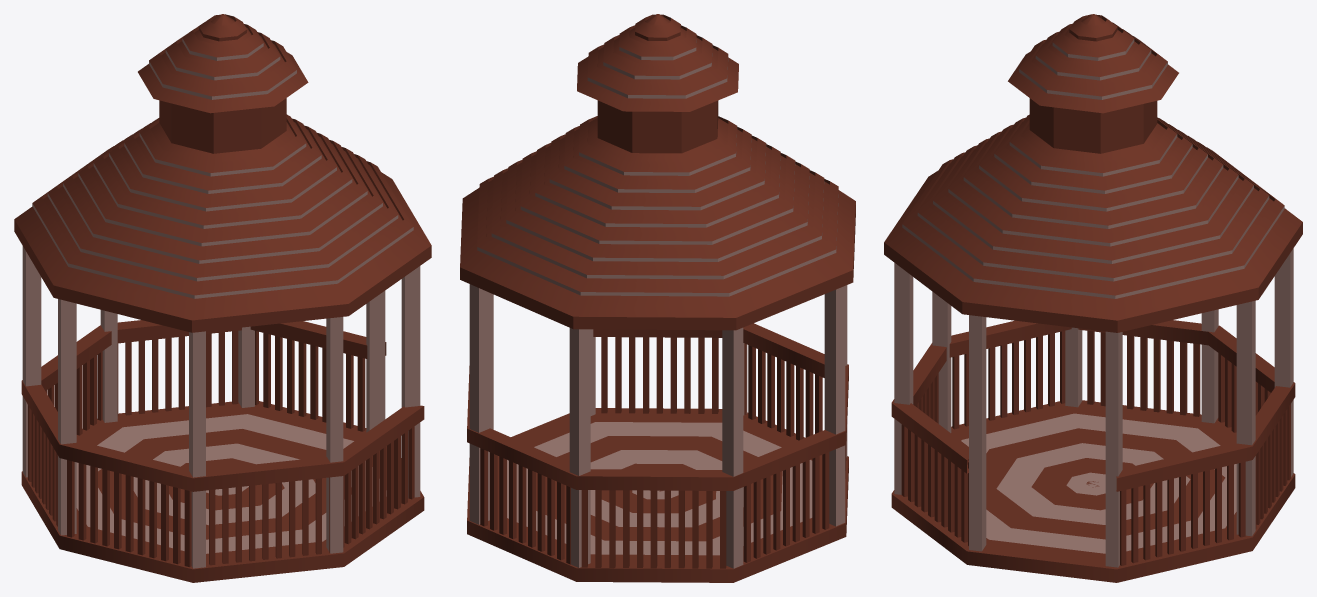
Rendered from Gazebo 1.obj.
3 renders of one model, left to right at view 1: azimuth 30°, elevation 25°; view 2: azimuth 150°, elevation 25°; view 3: azimuth 270°, elevation 25°, orthographic.
Visible parts, largest first — view 1: Cylinder005, Cylinder004, Cylinder006, Box087, Box086, Box092, Box089, Box093, Box088, Box090, Box091, Box118 (+22 smaller); view 2: Cylinder005, Cylinder004, Cylinder006, Box093, Box092, Box090, Box091, Box165, Box162, Box129, Box099, Box111 (+41 smaller); view 3: Cylinder005, Cylinder004, Cylinder006, Box089, Box088, Box091, Box087, Box090, Box086, Box093, Box092, Box159 (+16 smaller).
Part boxes in pixels (x1=…): Cylinder005: x1=14, y1=14, x2=431, y2=332; Cylinder004: x1=21, y1=401, x2=424, y2=582; Cylinder006: x1=21, y1=320, x2=424, y2=491; Box087: x1=326, y1=317, x2=343, y2=553; Box086: x1=189, y1=331, x2=205, y2=568; Box092: x1=58, y1=299, x2=76, y2=535; Box089: x1=401, y1=266, x2=420, y2=497; Box093: x1=22, y1=246, x2=41, y2=477; Box088: x1=366, y1=291, x2=385, y2=432; Box090: x1=100, y1=310, x2=117, y2=422; Box091: x1=238, y1=326, x2=254, y2=407; Box118: x1=125, y1=475, x2=133, y2=552; Cylinder005: x1=460, y1=14, x2=855, y2=330; Cylinder004: x1=467, y1=408, x2=848, y2=582; Cylinder006: x1=467, y1=323, x2=848, y2=490; Box093: x1=722, y1=327, x2=743, y2=568; Box092: x1=824, y1=286, x2=845, y2=526; Box090: x1=569, y1=328, x2=590, y2=567; Box091: x1=469, y1=284, x2=490, y2=524; Box165: x1=537, y1=473, x2=545, y2=551; Box162: x1=518, y1=465, x2=526, y2=543; Box129: x1=786, y1=361, x2=794, y2=436; Box099: x1=650, y1=490, x2=657, y2=568; Box111: x1=763, y1=476, x2=770, y2=554; Cylinder005: x1=884, y1=14, x2=1302, y2=332; Cylinder004: x1=891, y1=400, x2=1295, y2=582; Cylinder006: x1=891, y1=320, x2=1295, y2=491; Box089: x1=969, y1=315, x2=986, y2=551; Box088: x1=1105, y1=331, x2=1122, y2=567; Box091: x1=1236, y1=300, x2=1255, y2=536; Box087: x1=894, y1=263, x2=913, y2=494; Box090: x1=1274, y1=248, x2=1293, y2=476; Box086: x1=932, y1=291, x2=951, y2=432; Box093: x1=1201, y1=309, x2=1218, y2=423; Box092: x1=1065, y1=327, x2=1082, y2=407; Box159: x1=1131, y1=487, x2=1138, y2=563.
Size of the model in its own units: 400512 by 509252 by 400512.
